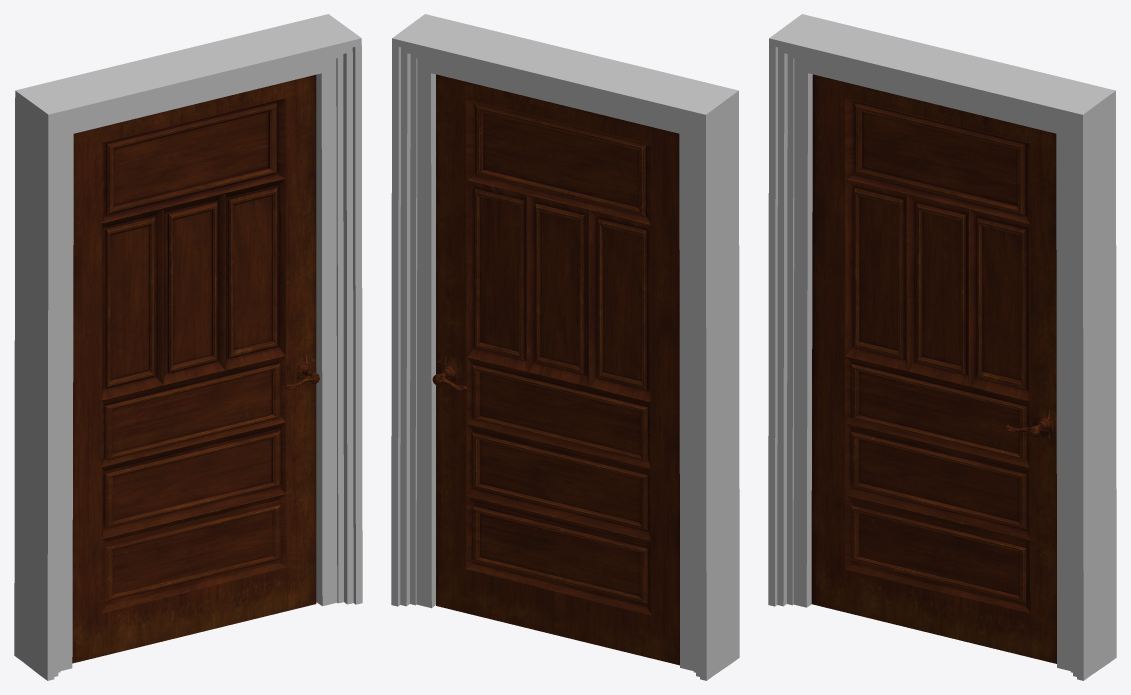
File: wooden_door.obj
3 views of the same model, side by side, from view 1: azimuth 30°, elevation 25°; view 2: azimuth 150°, elevation 25°; view 3: azimuth 330°, elevation 25° (orthographic).
Parts seen in each view (by area): view 1: door, door_frame, door_handle; view 2: door, door_frame, door_handle; view 3: door, door_frame, door_handle.
Part boxes in pixels (x1,y1,x2,y2): door: (72,74,316,663); door_frame: (14,14,362,680); door_handle: (285,354,319,389); door: (436,74,679,665); door_frame: (391,14,739,680); door_handle: (432,355,466,391); door: (811,74,1056,663); door_frame: (768,14,1116,680); door_handle: (1005,407,1056,438).
Size of the model in its own units: 136 by 234 by 30.34.
